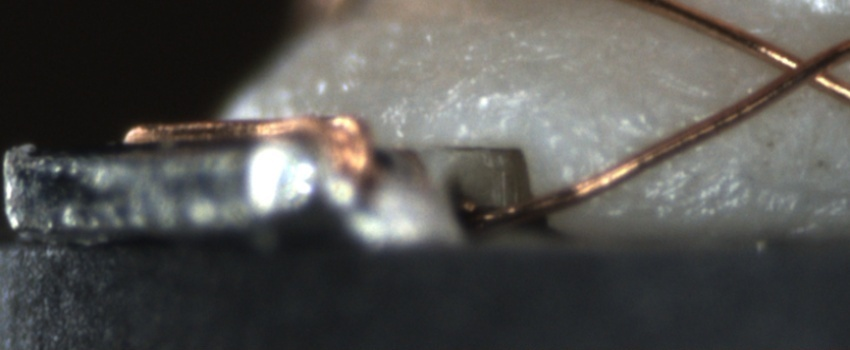CL: (765, 38, 845, 98)
TE: (107, 108, 374, 185)
